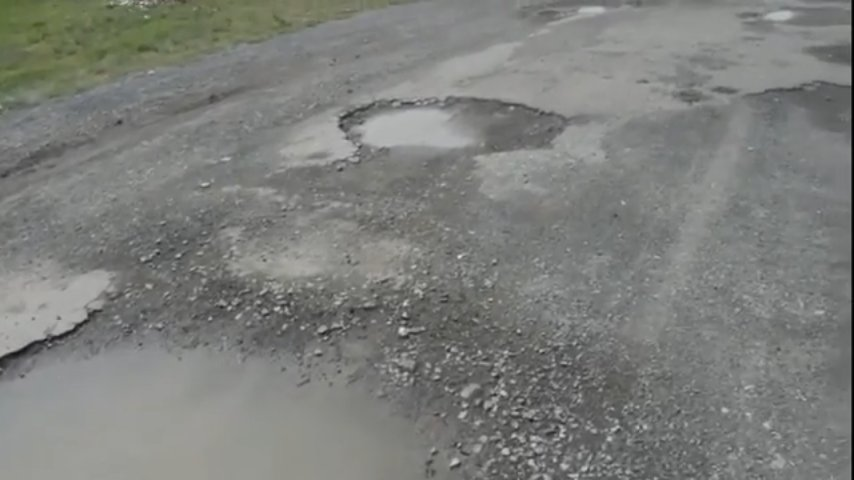pothole: (234, 243, 530, 358)
